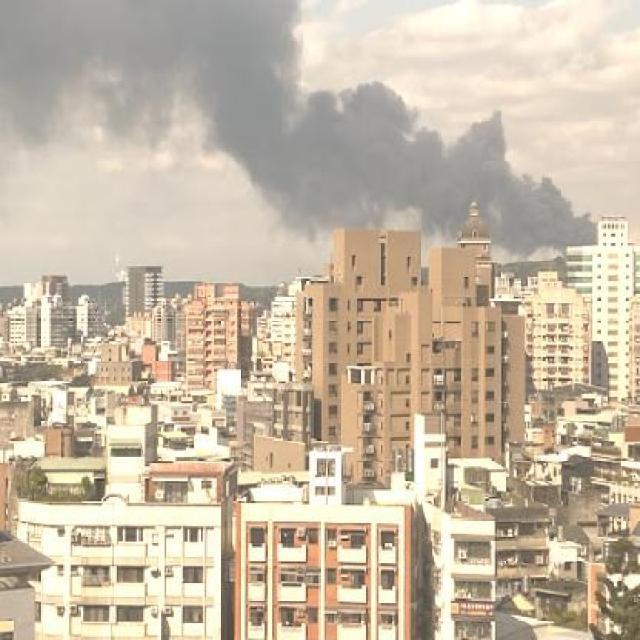Smoke: (0, 0, 640, 277)
